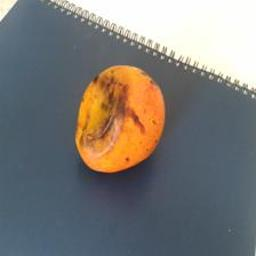Mango Rotten: (75, 50, 167, 189)
